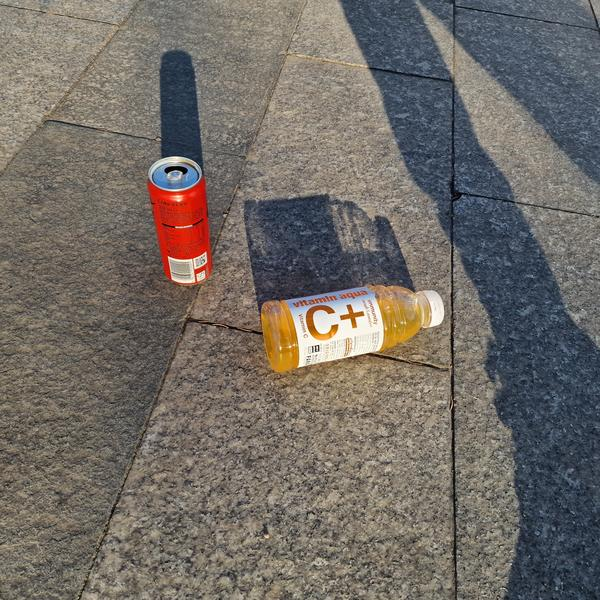can: (143, 151, 222, 291)
plastic_bottle: (257, 269, 450, 374)
